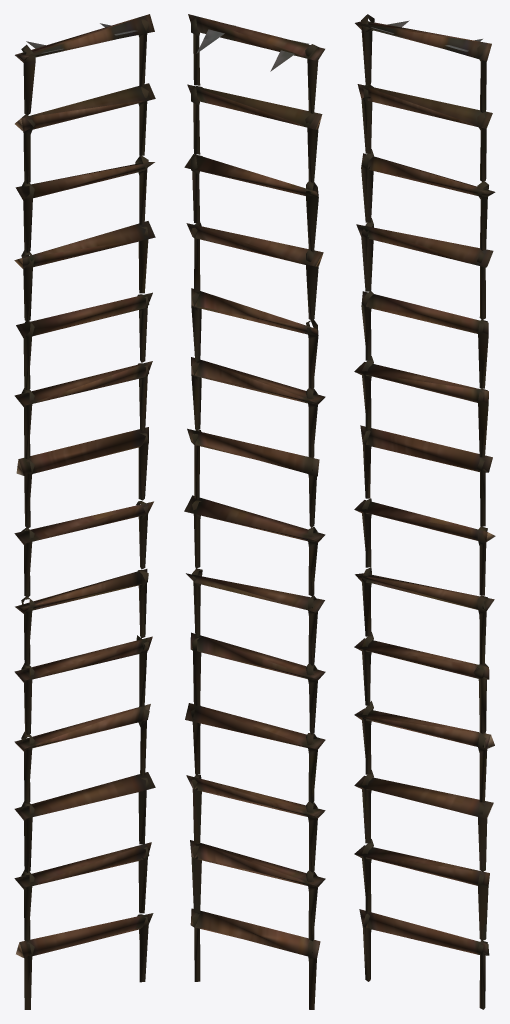
Rendered from rope_ladder_lod1.glb.
3 views of the same model, side by side, from view 1: azimuth 30°, elevation 25°; view 2: azimuth 150°, elevation 25°; view 3: azimuth 330°, elevation 25° (orthographic).
Parts seen in each view (by area): view 1: rope_ladder; view 2: rope_ladder; view 3: rope_ladder.
Boxes of the visible parts, bbox=[...] form: rope_ladder: bbox=[14, 14, 155, 1009]; rope_ladder: bbox=[184, 14, 325, 1009]; rope_ladder: bbox=[354, 14, 495, 1009].
Size of the model in its own units: 0.4998 by 3.5 by 0.1879.
Materials: 1 (1 with a texture image).
